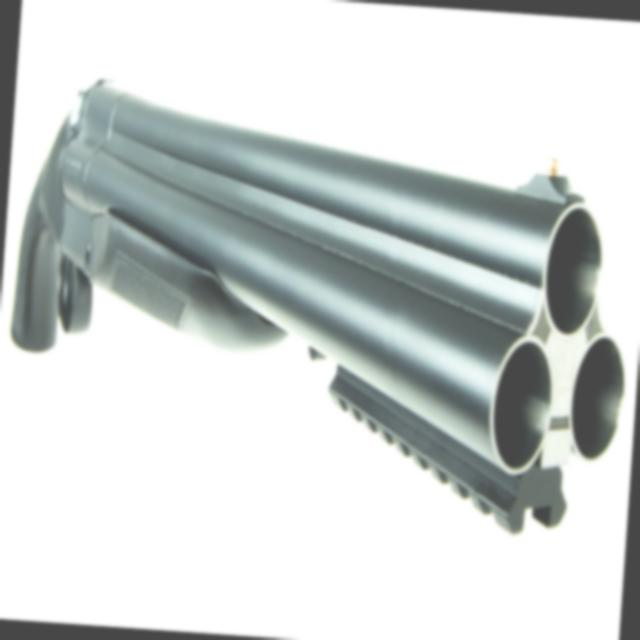shotgun: (0, 62, 640, 537)
